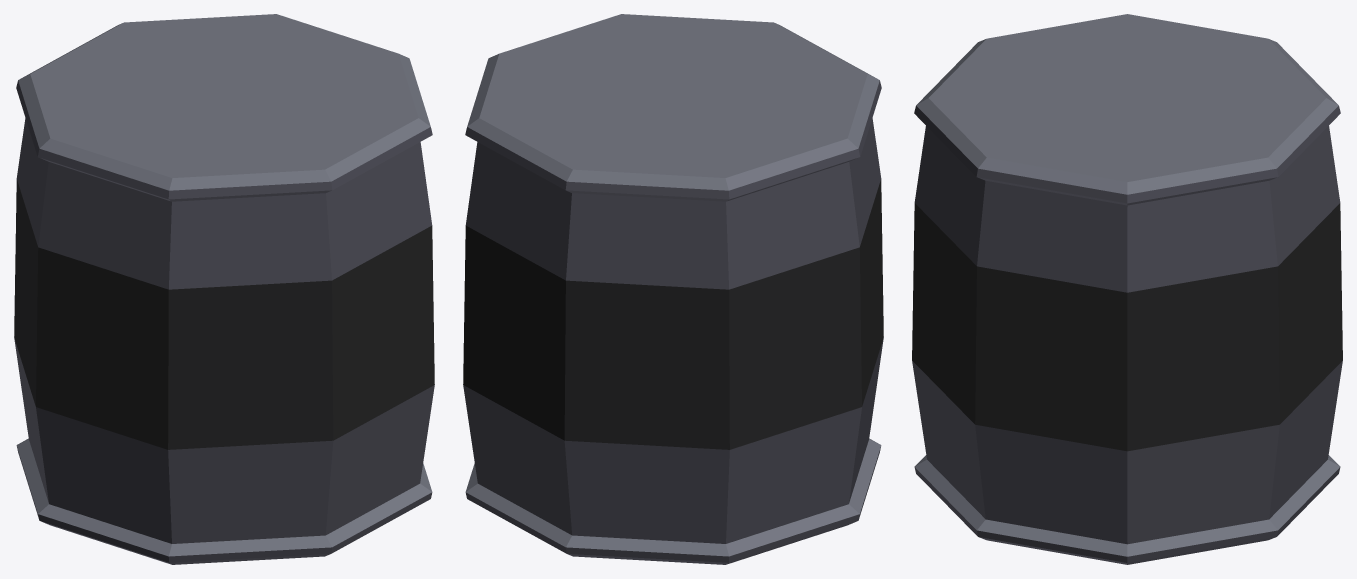
File: MetalBarrelStool.glb
3 renders of one model, left to right at view 1: azimuth 30°, elevation 25°; view 2: azimuth 150°, elevation 25°; view 3: azimuth 270°, elevation 25°, orthographic.
Parts seen in each view (by area): view 1: barrel_seat; view 2: barrel_seat; view 3: barrel_seat.
Part boxes in pixels (bbox=[...]): barrel_seat: bbox=[14, 14, 434, 564]; barrel_seat: bbox=[463, 14, 883, 564]; barrel_seat: bbox=[912, 14, 1342, 564].
Size of what is drawn, in the model's own units: 0.5431 by 0.5322 by 0.5431.
1 material, 1 textured.
